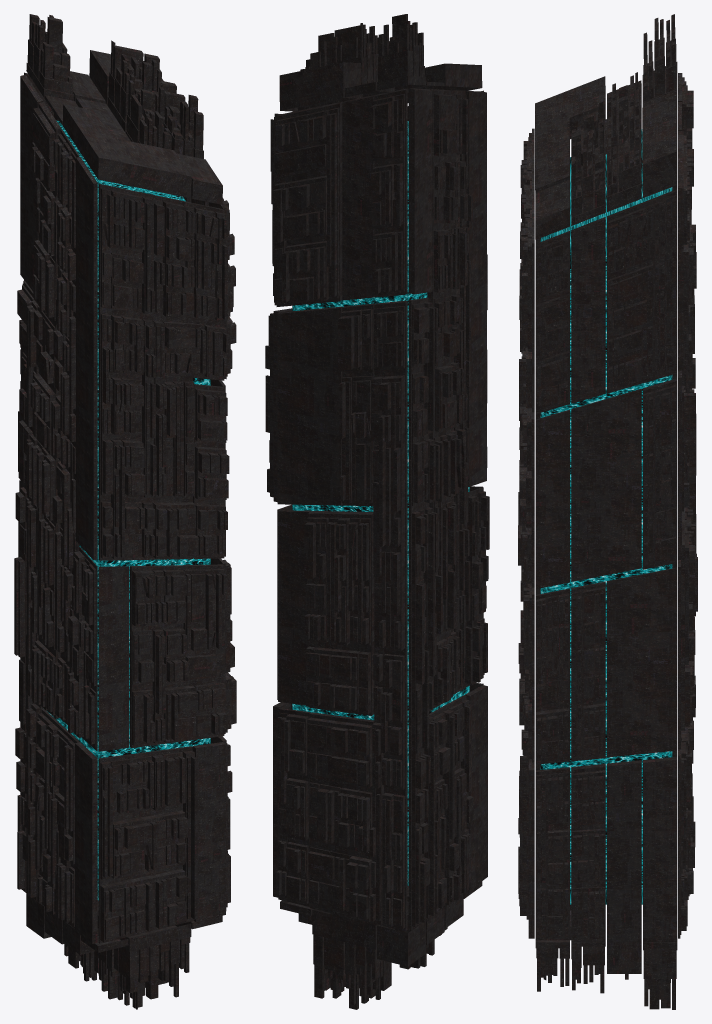
The picture shows the model from 3 angles, left to right: view 1: azimuth 30°, elevation 25°; view 2: azimuth 150°, elevation 25°; view 3: azimuth 270°, elevation 25°; orthographic projection. The views are drawn at different scales.
Parts seen in each view (by area): view 1: PILLAR_ALPHA_0; view 2: PILLAR_ALPHA_0; view 3: PILLAR_ALPHA_0.
Part boxes in pixels (x1,y1,x2,y2): PILLAR_ALPHA_0: (14,14,236,1009); PILLAR_ALPHA_0: (265,14,489,1009); PILLAR_ALPHA_0: (518,14,697,1009).
Size of the model in its own units: 2.93 by 17.23 by 2.93.
Materials: 2 (2 with a texture image).
